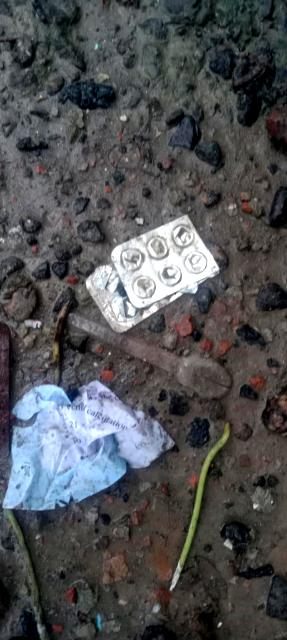medicine: (70, 202, 225, 341)
